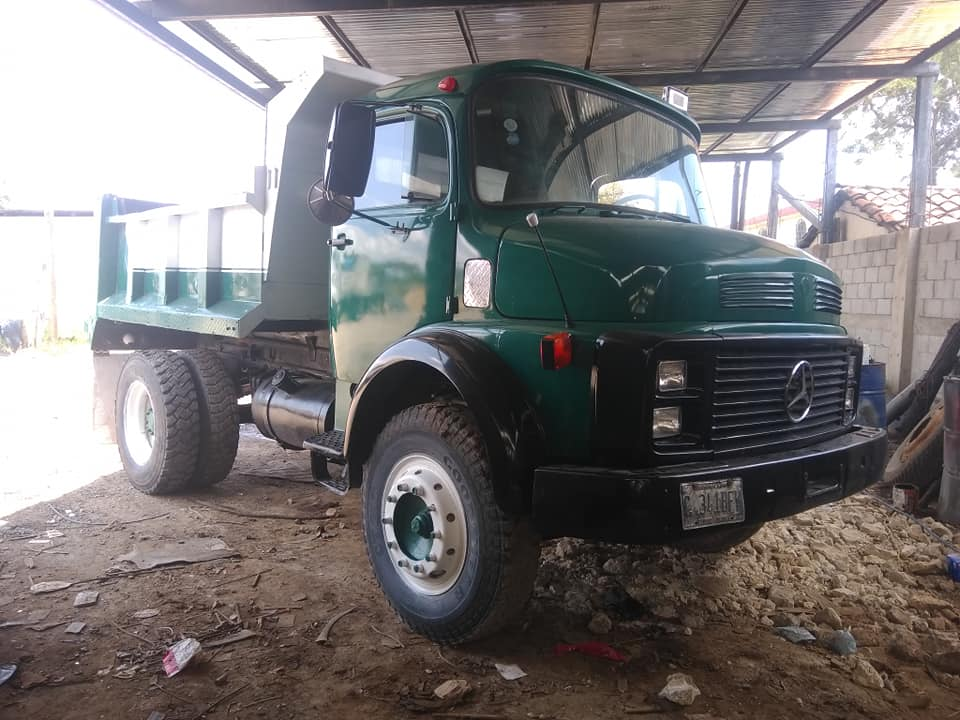camion: (78, 52, 892, 640)
